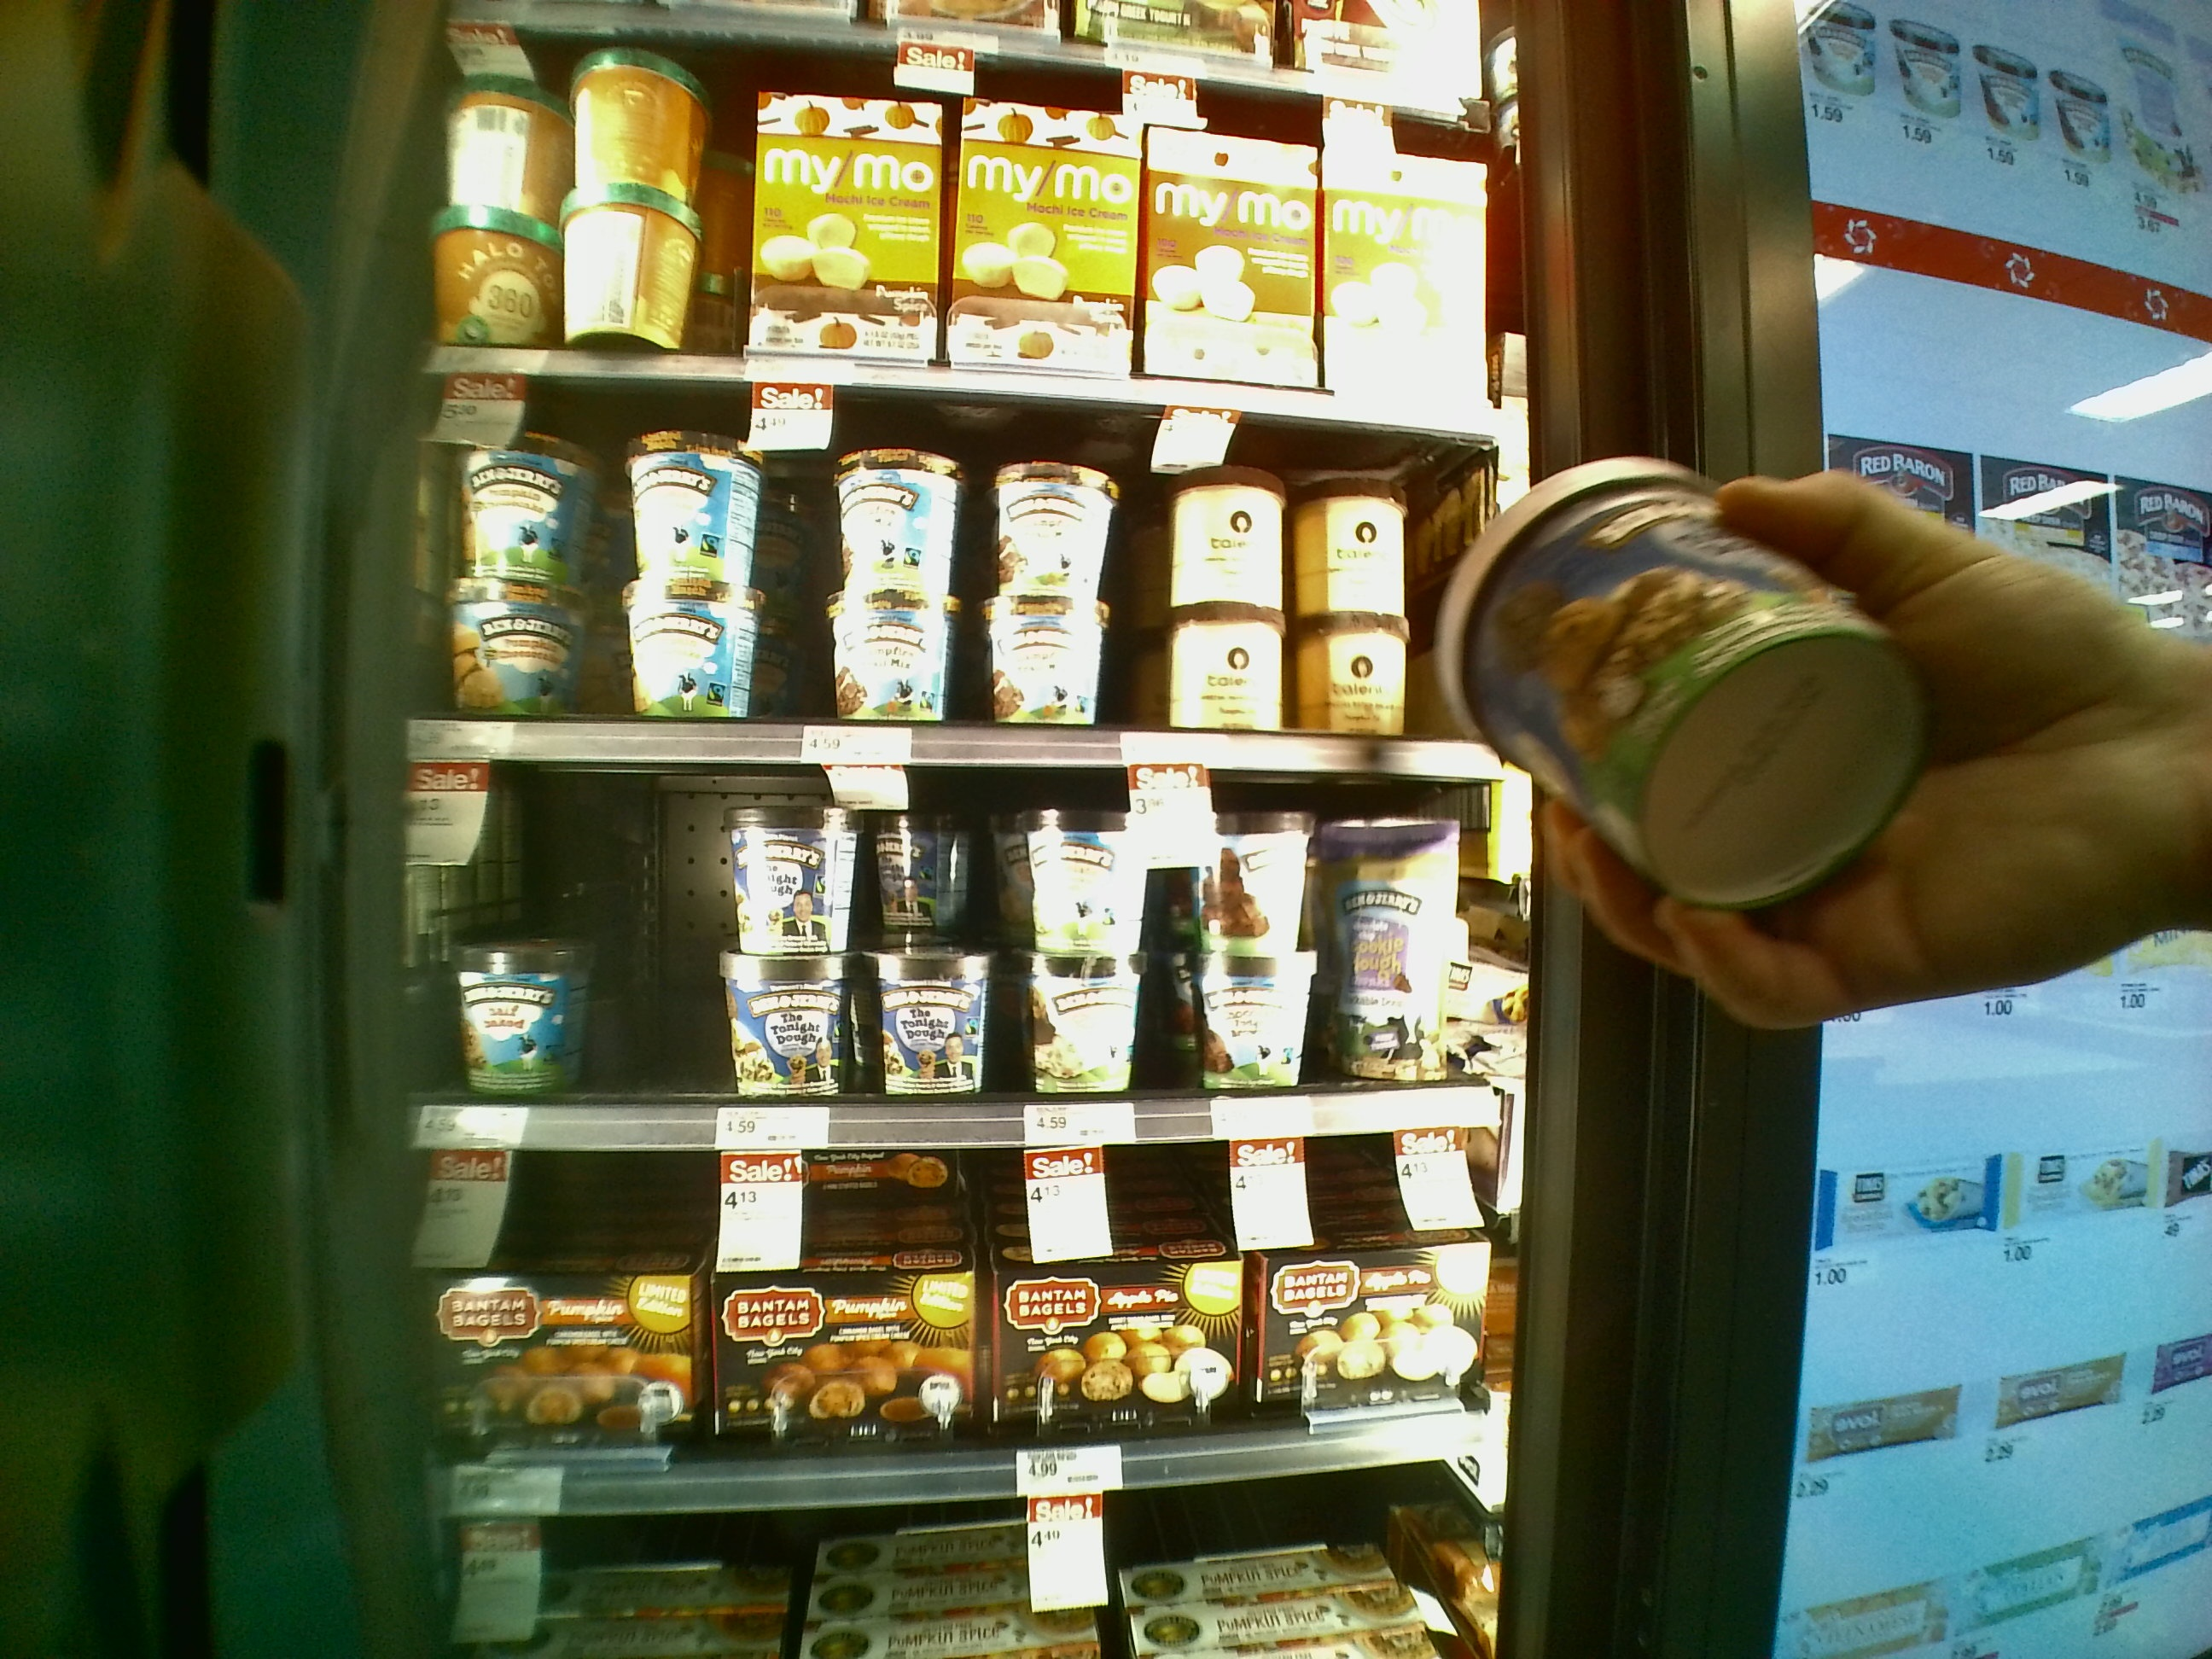shelf: (376, 746, 1529, 1154), (359, 1117, 1503, 1485)
